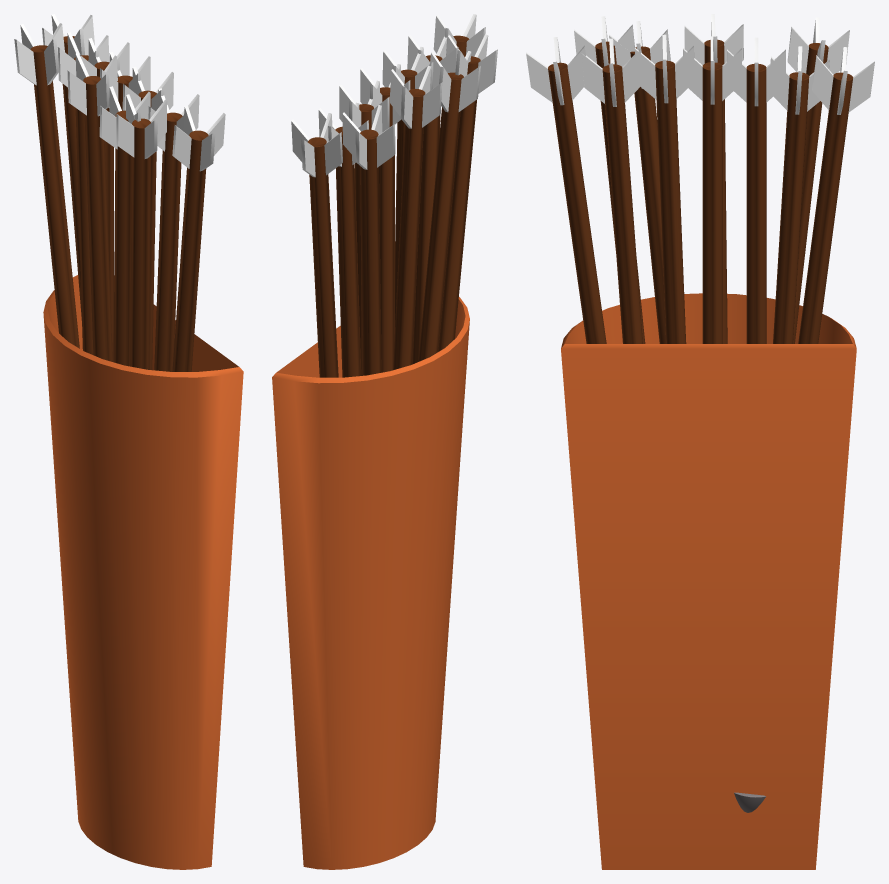
The model's file is Quiver.fbx.
The picture shows the model from 3 angles, left to right: view 1: azimuth 30°, elevation 25°; view 2: azimuth 150°, elevation 25°; view 3: azimuth 270°, elevation 25°; orthographic projection. The views are drawn at different scales.
Visible parts, largest first — view 1: Quiver; view 2: Quiver; view 3: Quiver.
Part boxes in pixels (x1,y1,x2,y2): Quiver: (14,14,243,869); Quiver: (272,14,497,869); Quiver: (526,14,874,869).
Bounding box in the file's own units: 9.28 × 64.32 × 25.01.
